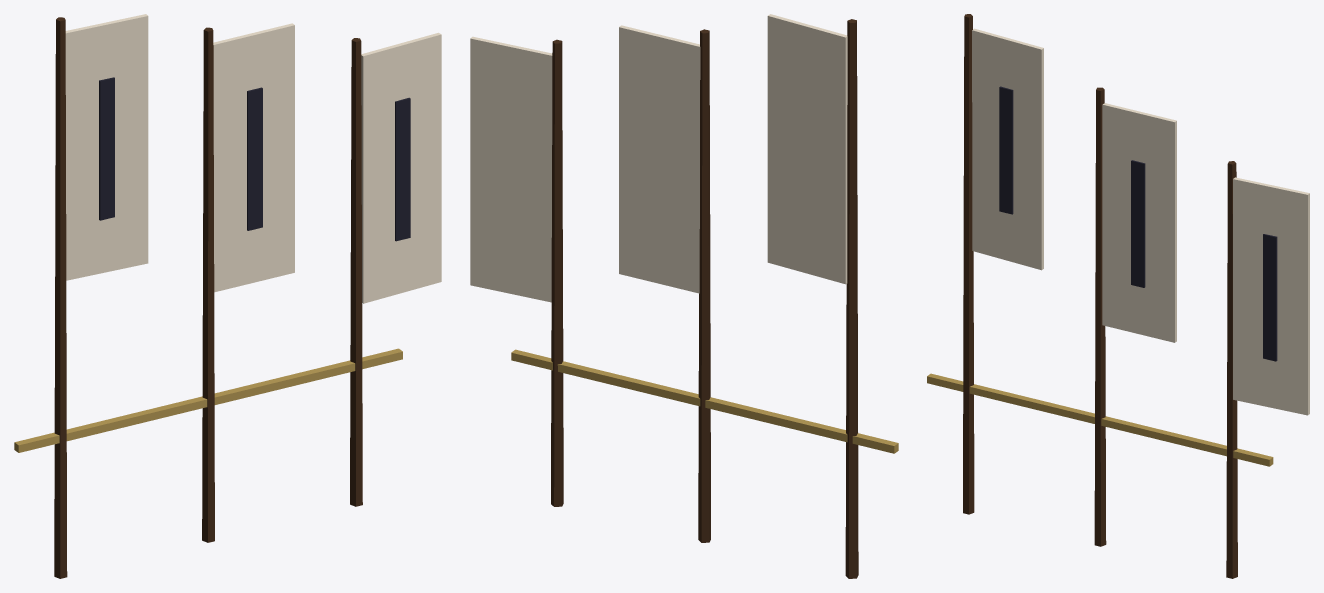
File: prop_mangjang.glb
The picture shows the model from 3 angles, left to right: view 1: azimuth 30°, elevation 25°; view 2: azimuth 150°, elevation 25°; view 3: azimuth 330°, elevation 25°; orthographic projection. The views are drawn at different scales.
Parts seen in each view (by area): view 1: prop_mangjang; view 2: prop_mangjang; view 3: prop_mangjang.
Boxes of the visible parts, x1,y1,x2,y2 form: prop_mangjang: [14, 14, 441, 578]; prop_mangjang: [470, 14, 898, 578]; prop_mangjang: [927, 14, 1309, 578].
Bounding box in the file's own units: 2.88 × 3.6 × 0.0724.
